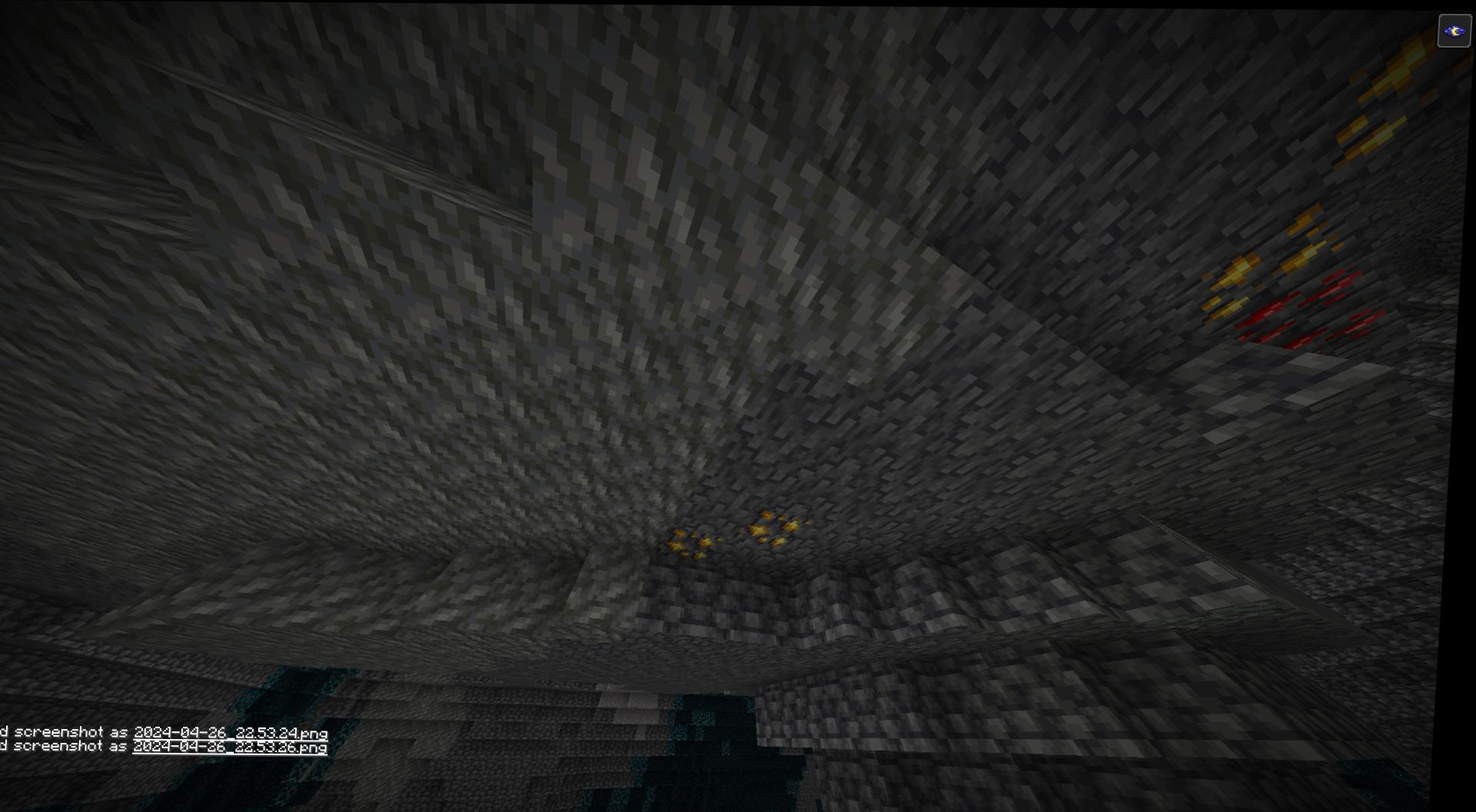gold ore: (1201, 204, 1339, 314), (1332, 43, 1450, 166), (749, 506, 819, 545), (669, 526, 726, 563)
redstone ore: (1236, 267, 1401, 356)
